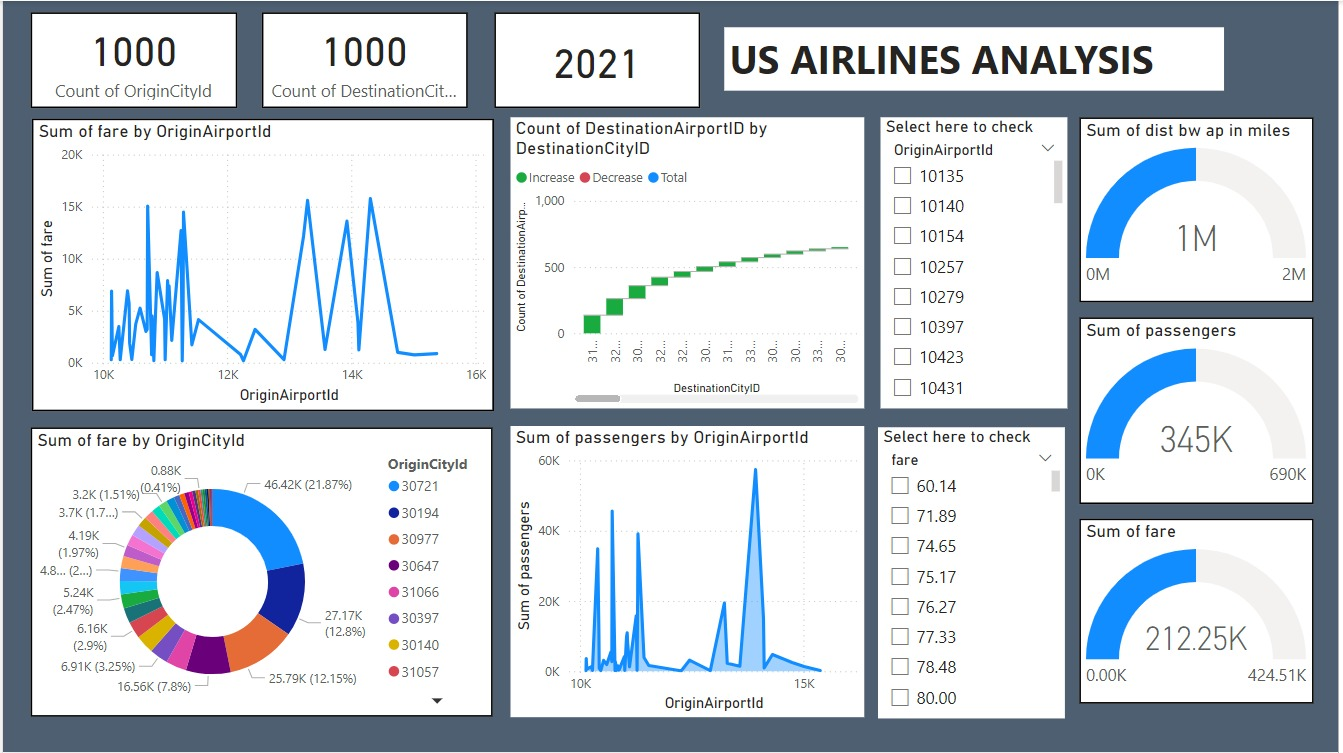

Layout of this report page (visuals, bound fields, positions):
{"tool":"powerbi","page":{"name":"Page 1","canvas":[1280,720],"ordinal":0},"visuals":[{"type":"lineChart","fields":{"Category":["USAIR.OriginAirportId"],"Y":["Sum(USAIR.fare)"]},"box":[27.8,112.5,443.1,280.6],"z":0},{"type":"donutChart","fields":{"Category":["USAIR.OriginCityId"],"Y":["Sum(USAIR.fare)"]},"box":[26.4,408.3,443.1,277.8],"z":1000},{"type":"card","fields":{"Values":["CountNonNull(USAIR.OriginCityId)"]},"box":[26.4,11.1,198.6,91.7],"z":2000},{"type":"gauge","fields":{"Y":["Sum(USAIR.fare)"]},"box":[1031.9,495.8,225,177.8],"z":3000},{"type":"gauge","fields":{"Y":["Sum(USAIR.passengers)"]},"box":[1031.9,302.8,225,179.2],"z":4000},{"type":"gauge","fields":{"Y":["Sum(USAIR.dist bw ap in miles)"]},"box":[1031.9,111.1,225,177.8],"z":5000},{"type":"card","fields":{"Values":["CountNonNull(USAIR.DestinationCityID)"]},"box":[248.6,11.1,197.2,91.7],"z":6000},{"type":"card","fields":{"Values":["Min(USAIR.Year)"]},"box":[470.8,11.1,197.2,91.7],"z":7000},{"type":"textbox","box":[691.7,25,479.2,61.1],"z":8000},{"type":"slicer","title":"Select here to check","fields":{"Values":["USAIR.fare"]},"box":[838.9,408.3,179.2,279.2],"z":9000},{"type":"waterfallChart","fields":{"Category":["USAIR.DestinationCityID"],"Y":["CountNonNull(USAIR.DestinationAirportID)"]},"box":[486.1,111.1,338.9,279.2],"z":10000},{"type":"areaChart","fields":{"Category":["USAIR.OriginAirportId"],"Y":["Sum(USAIR.passengers)"]},"box":[486.1,406.9,338.9,279.2],"z":11000},{"type":"slicer","title":"Select here to check","fields":{"Values":["USAIR.OriginAirportId"]},"box":[841.7,111.1,179.2,279.2],"z":12000}]}

Visuals, with their boxes in screenshot pixels (x1, y1, x2, y2), scaled from the page's 1280x720 canvas onto the 1343x753 screenshot:
lineChart - USAIR.OriginAirportId x Sum(USAIR.fare): (29,118,494,411)
donutChart - USAIR.OriginCityId x Sum(USAIR.fare): (28,427,493,718)
card - CountNonNull(USAIR.OriginCityId): (28,12,236,108)
gauge - Sum(USAIR.fare): (1083,519,1319,704)
gauge - Sum(USAIR.passengers): (1083,317,1319,504)
gauge - Sum(USAIR.dist bw ap in miles): (1083,116,1319,302)
card - CountNonNull(USAIR.DestinationCityID): (261,12,468,108)
card - Min(USAIR.Year): (494,12,701,108)
textbox: (726,26,1229,90)
"Select here to check" slicer: (880,427,1068,719)
waterfallChart - USAIR.DestinationCityID x CountNonNull(USAIR.DestinationAirportID): (510,116,866,408)
areaChart - USAIR.OriginAirportId x Sum(USAIR.passengers): (510,426,866,718)
"Select here to check" slicer: (883,116,1071,408)
